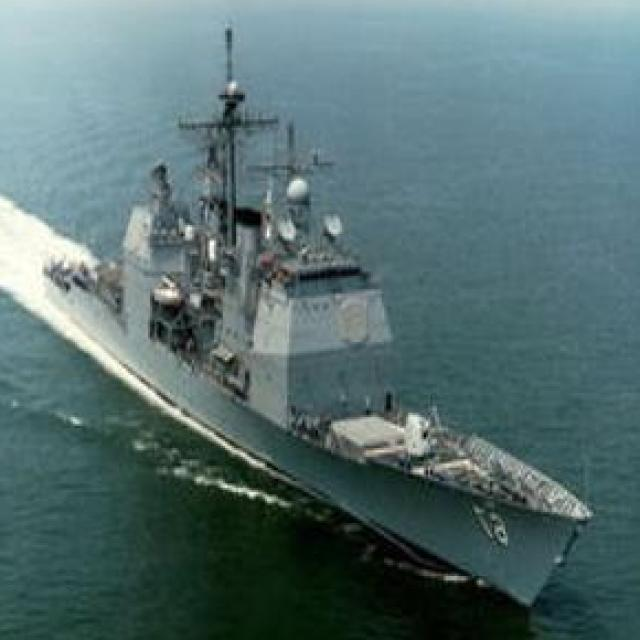navalvessels: (45, 60, 608, 608)
